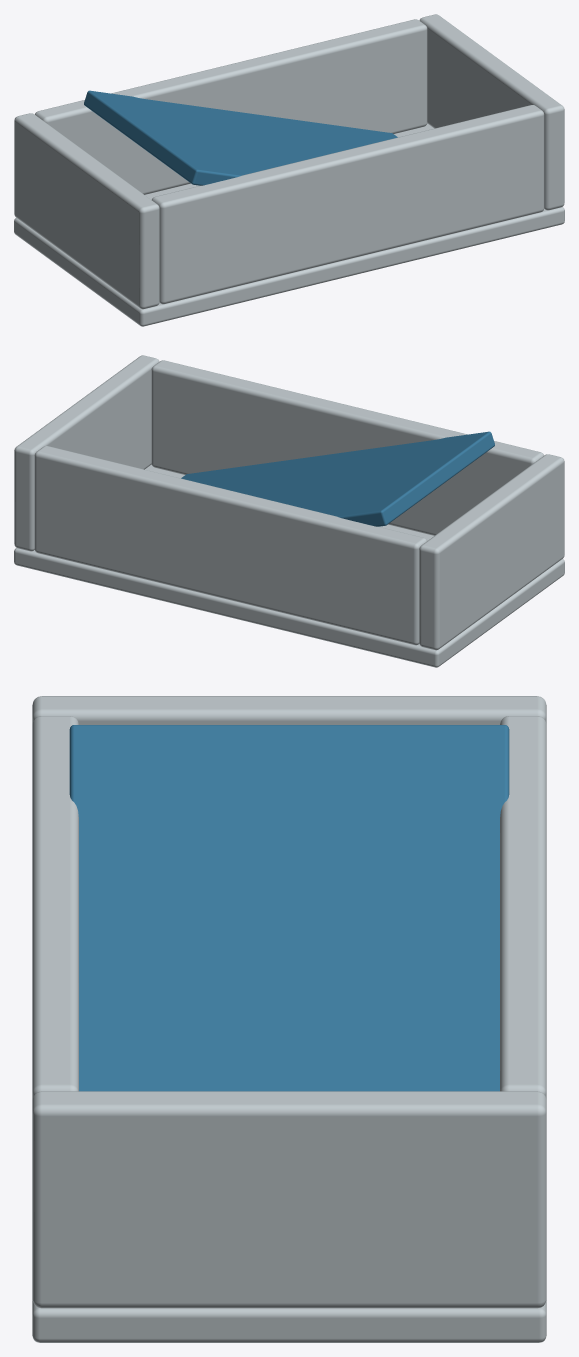
Rendered from recycling-centre-and-material-sorting-ejection-chute-589c8179__31120.glb.
3 renders of one model, top to bottom at view 1: azimuth 30°, elevation 25°; view 2: azimuth 150°, elevation 25°; view 3: azimuth 270°, elevation 25°, orthographic. The views are drawn at different scales.
Visible parts, largest first — view 1: ejection-chute; view 2: ejection-chute; view 3: ejection-chute.
Boxes of the visible parts, bbox=[...] form: ejection-chute: bbox=[14, 14, 564, 326]; ejection-chute: bbox=[14, 355, 564, 667]; ejection-chute: bbox=[32, 696, 546, 1342].
Bounding box in the file's own units: 1.05 × 0.3186 × 0.5501.
